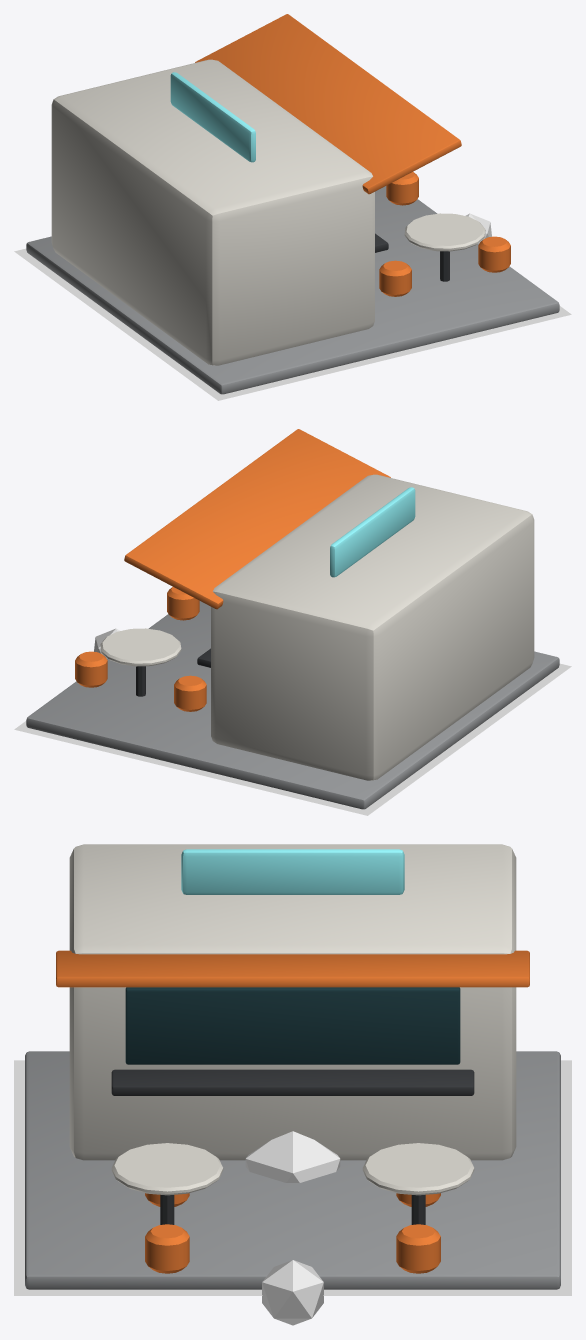
File: diner_1x1.gltf
3 renders of one model, top to bottom at view 1: azimuth 30°, elevation 25°; view 2: azimuth 150°, elevation 25°; view 3: azimuth 270°, elevation 25°, orthographic. The views are drawn at different scales.
Visible parts, largest first — view 1: Diner, %P%Footprint; view 2: Diner, %P%Footprint; view 3: Diner, %P%Footprint, %P%Center, %P%AnchorIn.
Boxes of the visible parts, x1,y1,x2,y2 form: Diner: [26, 14, 559, 394]; %P%Footprint: [14, 248, 571, 400]; Diner: [26, 429, 559, 809]; %P%Footprint: [14, 663, 571, 815]; Diner: [25, 844, 560, 1289]; %P%Footprint: [14, 1060, 571, 1295]; %P%Center: [245, 1131, 340, 1182]; %P%AnchorIn: [262, 1260, 323, 1325].
Bounding box in the file's own units: 2.12 × 1.28 × 2.
